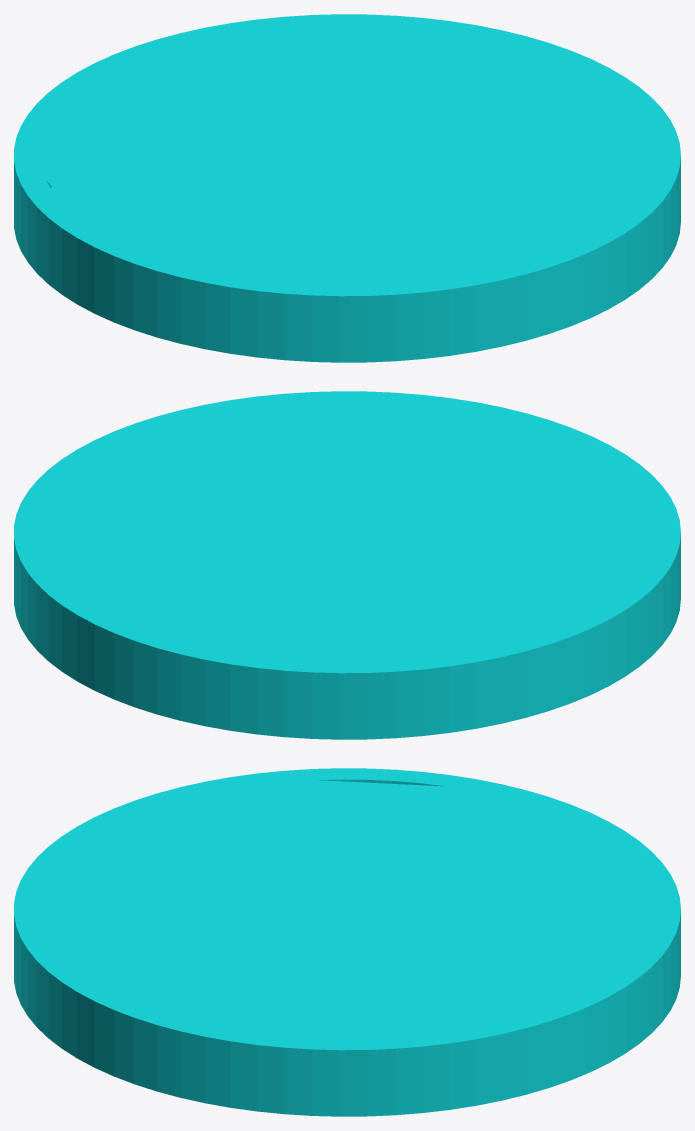
File: teleport.fbx
The picture shows the model from 3 angles, top to bottom: view 1: azimuth 30°, elevation 25°; view 2: azimuth 150°, elevation 25°; view 3: azimuth 270°, elevation 25°; orthographic projection.
Visible parts, largest first — view 1: Cylinder; view 2: Cylinder; view 3: Cylinder.
Boxes of the visible parts, x1,y1,x2,y2 form: Cylinder: (14, 14, 680, 362); Cylinder: (14, 391, 680, 739); Cylinder: (14, 768, 680, 1116).
Bounding box in the file's own units: 99.98 × 11 × 99.96.
